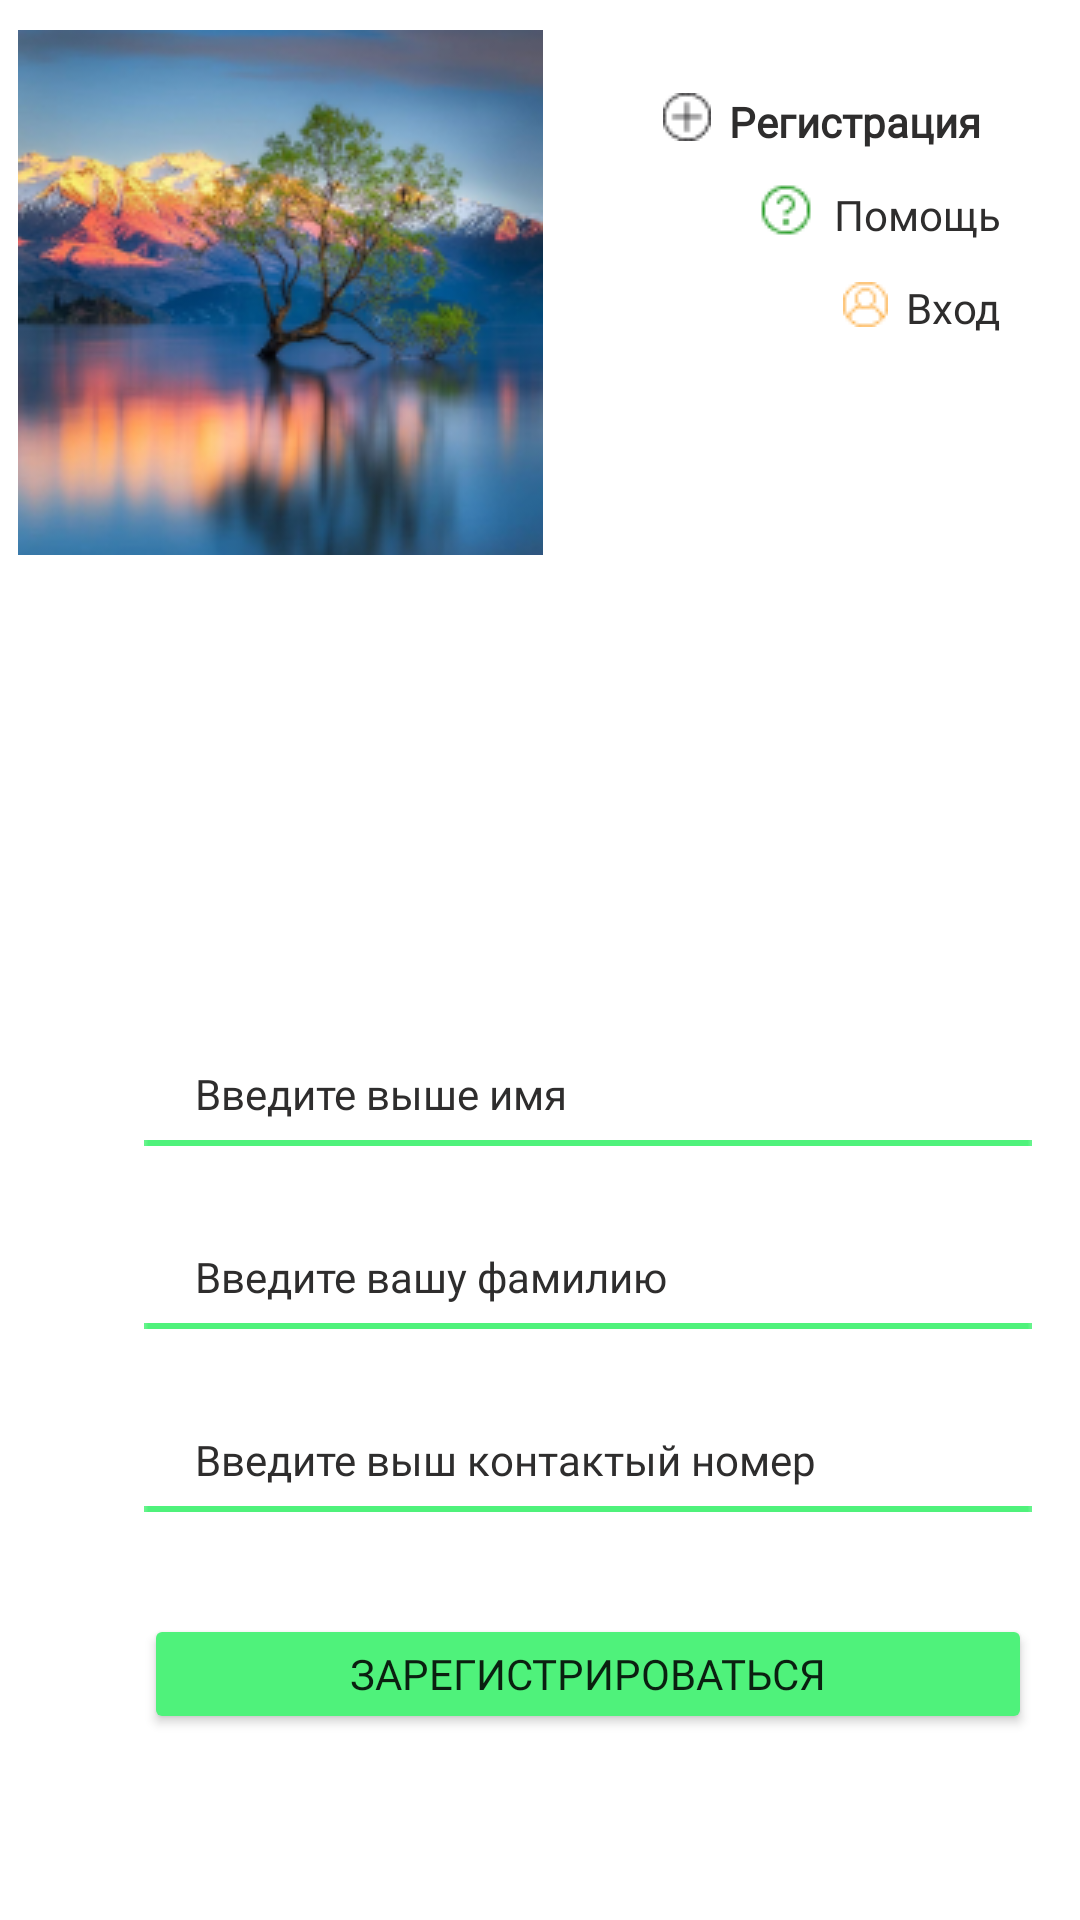

Point at icon controls on the screen. Image size 1080x1920, points as [x,y].
free plus sign: [687,117]
free user: [865,304]
premium question sign: [786,210]
